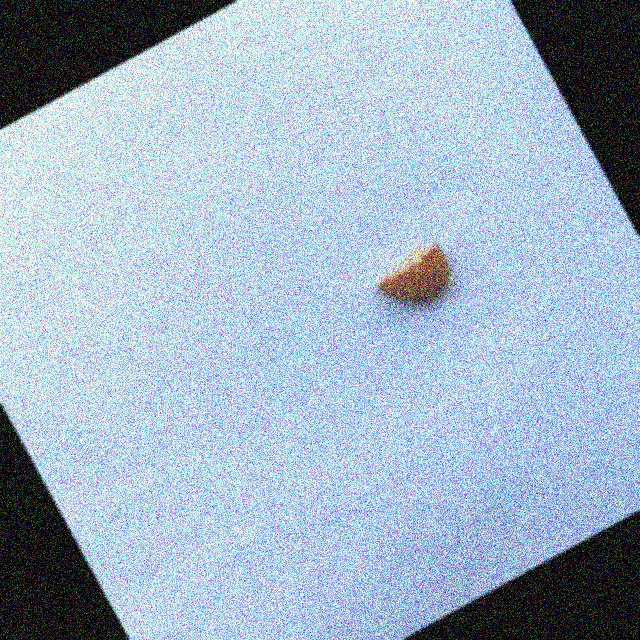grade4: (360, 231, 470, 329)
